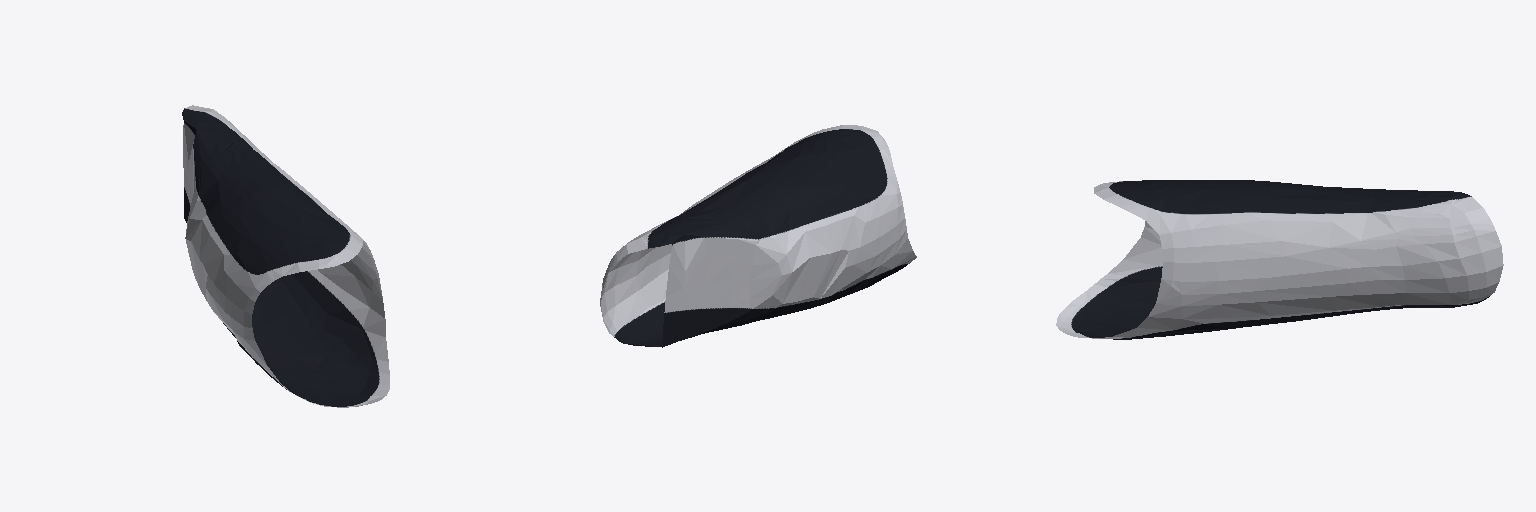
The picture shows the model from 3 angles: view 1: azimuth 30°, elevation 25°; view 2: azimuth 150°, elevation 25°; view 3: azimuth 270°, elevation 25°; orthographic projection.
Visible parts, largest first — view 1: R_HIP_P-457-FACES; view 2: R_HIP_P-457-FACES; view 3: R_HIP_P-457-FACES.
Part boxes in pixels (x1,y1,x2,y2): R_HIP_P-457-FACES: (182, 105, 389, 407); R_HIP_P-457-FACES: (600, 125, 916, 347); R_HIP_P-457-FACES: (1056, 180, 1503, 339).
Bounding box in the file's own units: 0.1502 × 0.1478 × 0.4078.
Materials: 1 (1 with a texture image).